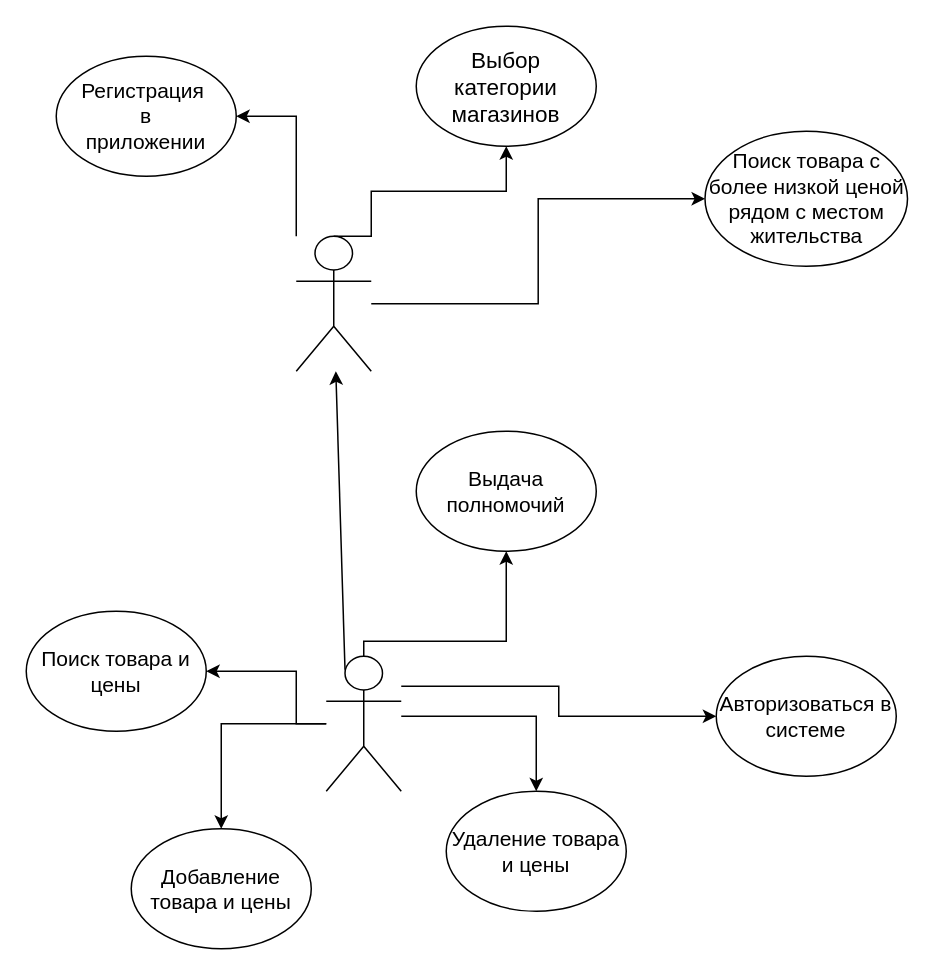
The diagram is 935 pixels wide and 975 high, and some of its shapes have lost their labels. The shapes that lost their labels are listed below. From the top down, each one's box as (x1, y1, x2, y2) in pixels, then its label:
(295, 235, 371, 371): Пользователь
(325, 655, 401, 791): Администратор
